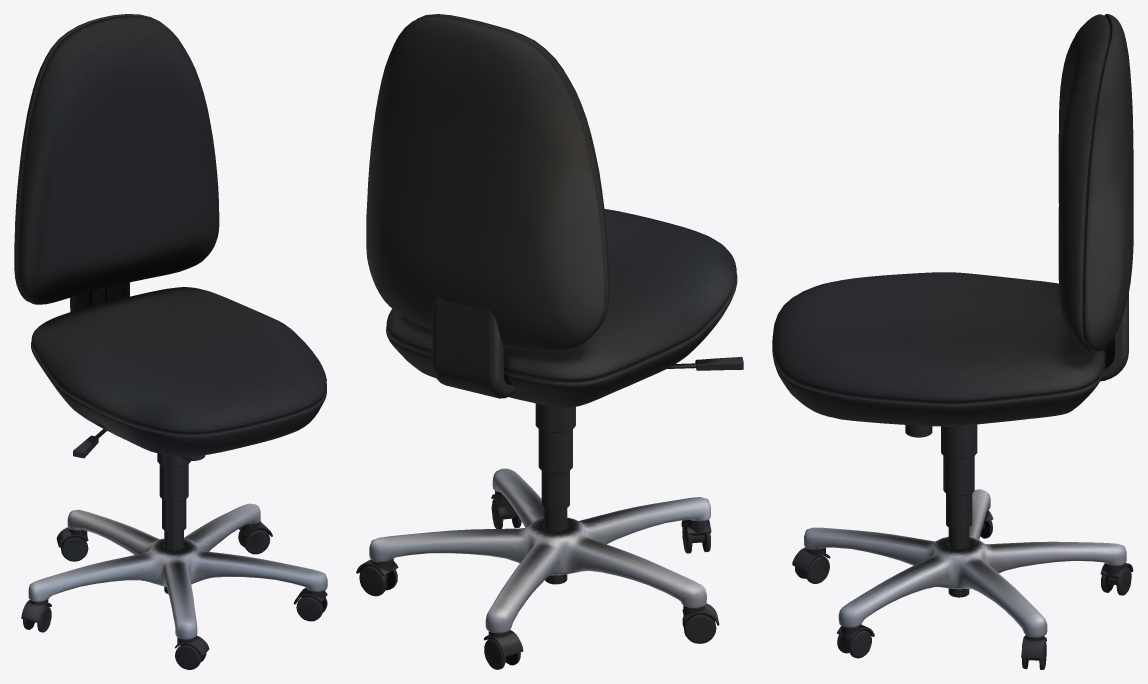
File: salara_black_chrome_plated.glb
The picture shows the model from 3 angles, left to right: view 1: azimuth 30°, elevation 25°; view 2: azimuth 150°, elevation 25°; view 3: azimuth 270°, elevation 25°; orthographic projection. The views are drawn at different scales.
Visible parts, largest first — view 1: 128054-black; view 2: 128054-black; view 3: 128054-black.
Part boxes in pixels (x1,y1,x2,y2): 128054-black: [14, 14, 327, 669]; 128054-black: [356, 14, 743, 669]; 128054-black: [772, 14, 1133, 669].
Size of the model in its own units: 0.4651 by 0.8632 by 0.4888.
1 material, 1 textured.
